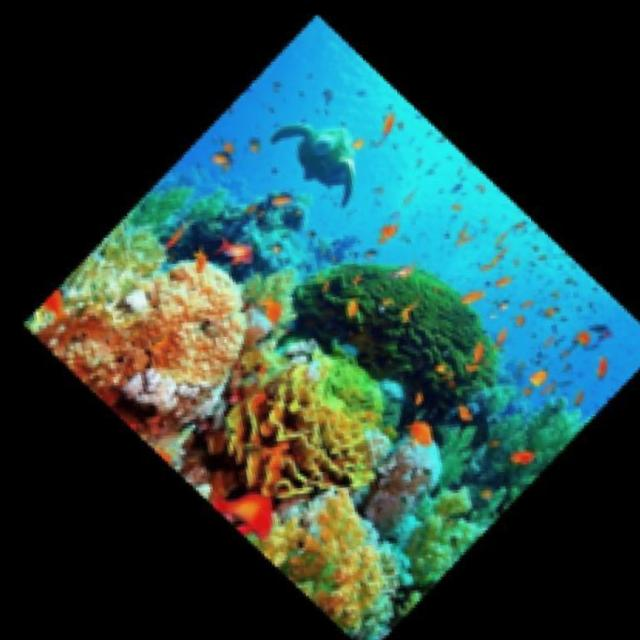Healthy Coral: (282, 212, 520, 423), (195, 327, 405, 531), (116, 217, 263, 415), (334, 401, 461, 555), (294, 486, 401, 609)
